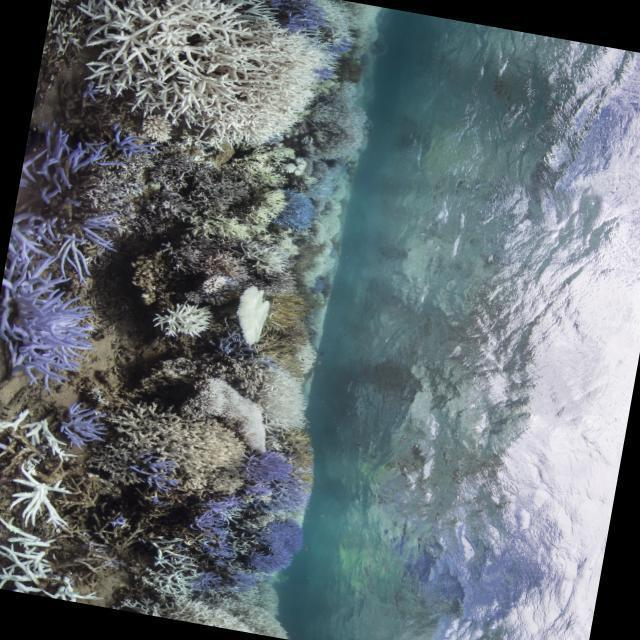Bleached Coral: (49, 0, 373, 171), (71, 0, 332, 157), (0, 459, 73, 596), (187, 376, 278, 462), (227, 281, 294, 349), (0, 404, 82, 450), (142, 298, 211, 348), (262, 367, 315, 426), (193, 211, 258, 247), (245, 187, 290, 230)
